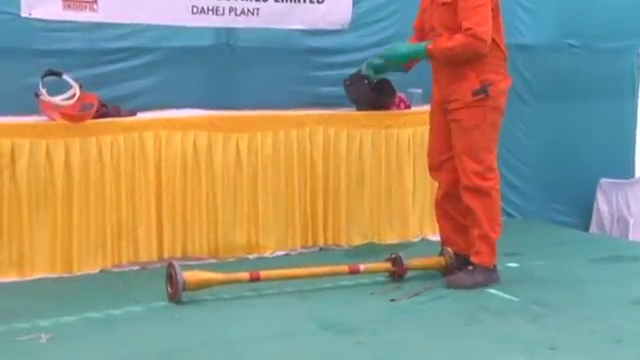person: (396, 1, 510, 303)
